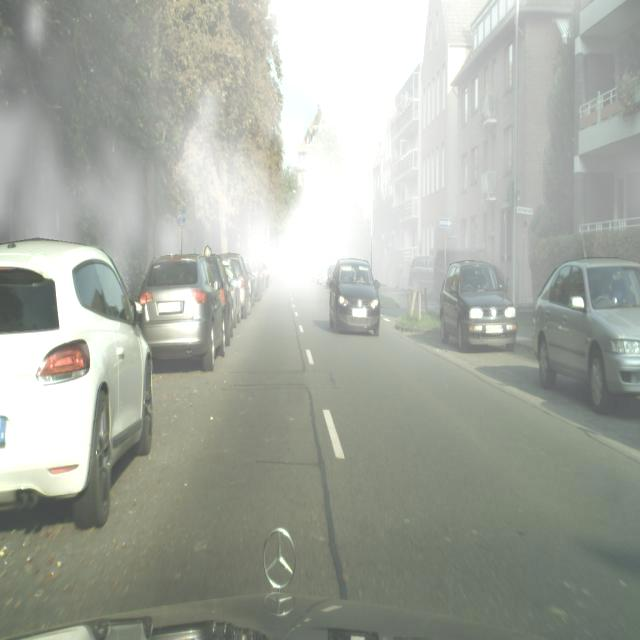car: (0, 238, 154, 530), (532, 258, 640, 414), (137, 254, 226, 372), (438, 259, 518, 353), (328, 259, 381, 336), (434, 244, 487, 297), (204, 253, 234, 342), (222, 257, 243, 324), (233, 257, 254, 316), (408, 254, 436, 291), (247, 260, 263, 300), (261, 263, 272, 288)
